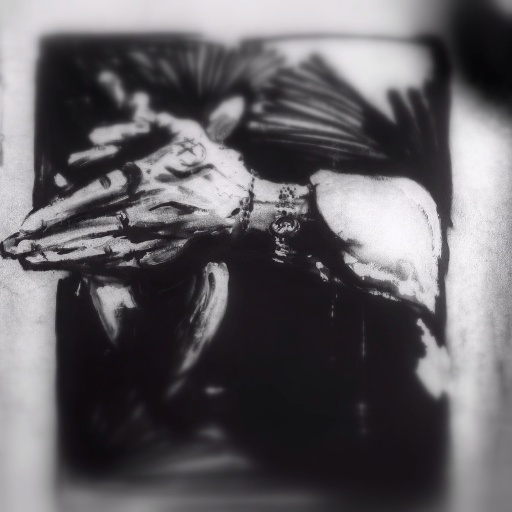hand: (0, 111, 264, 280), (46, 71, 245, 196)
